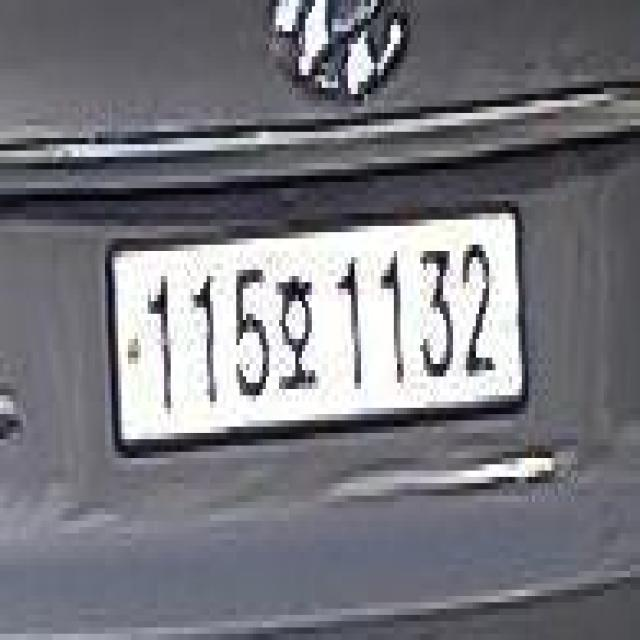illegal_plate: (102, 195, 532, 468)
